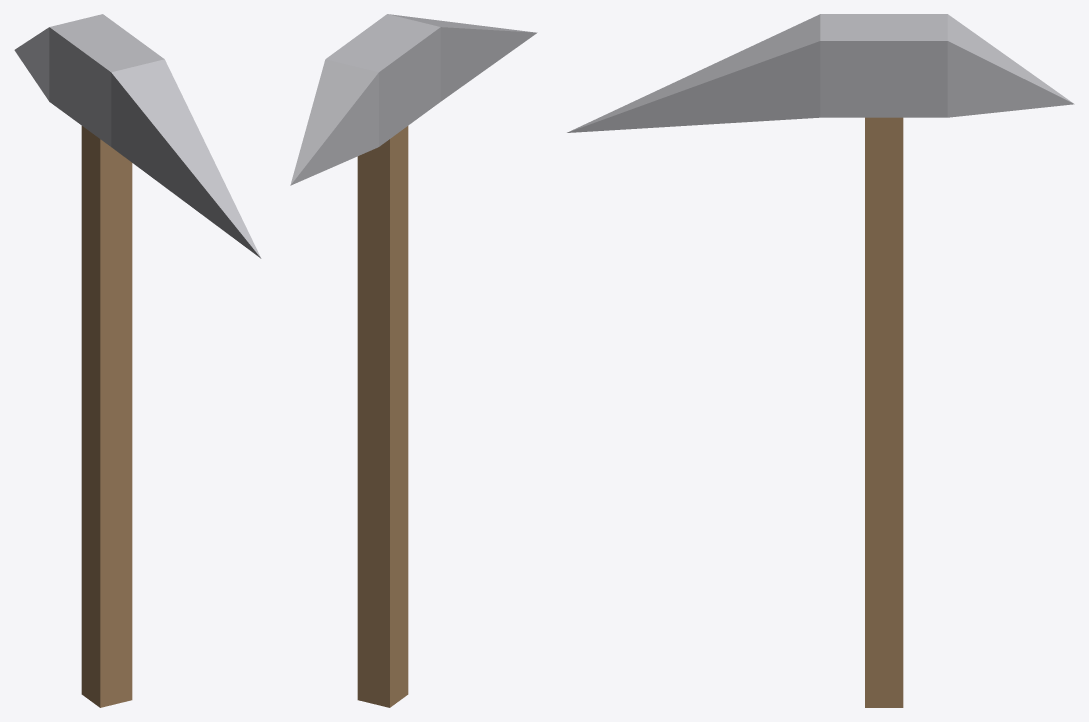
File: pickaxe.glb
3 renders of one model, left to right at view 1: azimuth 30°, elevation 25°; view 2: azimuth 150°, elevation 25°; view 3: azimuth 270°, elevation 25°, orthographic. The views are drawn at different scales.
Parts seen in each view (by area): view 1: Pickaxe; view 2: Pickaxe; view 3: Pickaxe.
Boxes of the visible parts, x1,y1,x2,y2 form: Pickaxe: (14,14,261,707); Pickaxe: (290,14,537,707); Pickaxe: (567,14,1074,707).
Bounding box in the file's own units: 0.06 × 0.7 × 0.48.
